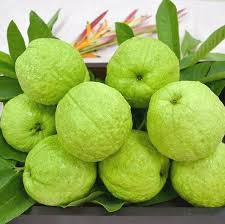guava: (55, 82, 132, 162), (148, 81, 224, 161), (23, 135, 98, 206), (100, 128, 168, 202), (106, 37, 179, 105), (15, 37, 86, 105), (1, 95, 58, 151)
